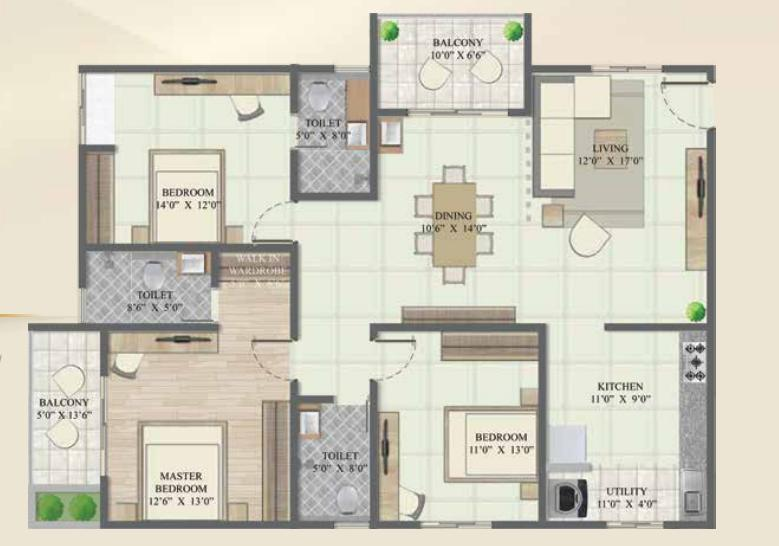Balcony: (378, 16, 526, 110), (29, 332, 100, 524)
Bed: (142, 426, 223, 521), (444, 407, 536, 476), (152, 152, 222, 239)
Bedroom: (101, 254, 291, 521), (83, 75, 292, 243), (376, 335, 536, 520)
Dining Room: (302, 112, 571, 322)
Dining table: (414, 166, 500, 288)
Kitchen: (551, 329, 701, 466)
Living Room: (543, 75, 711, 320)
Sofa: (545, 81, 573, 183), (541, 82, 608, 117)
Wardrobe: (260, 404, 291, 520), (88, 149, 114, 241), (444, 333, 538, 358), (218, 255, 292, 286)
door: (662, 80, 711, 128), (250, 198, 292, 243), (377, 338, 416, 384), (251, 342, 288, 384), (406, 107, 513, 118), (98, 372, 108, 474)
fridge: (550, 426, 587, 462)
kitchen-slab: (680, 328, 708, 523)
sink: (679, 472, 704, 520)
stove: (683, 343, 706, 381)
toilet: (291, 72, 376, 201), (86, 252, 211, 322), (298, 403, 369, 518)
tv: (685, 150, 712, 239), (142, 329, 218, 351), (157, 73, 229, 93), (381, 415, 396, 492)
utility: (548, 472, 705, 523)
washing-machine: (549, 478, 588, 518)
